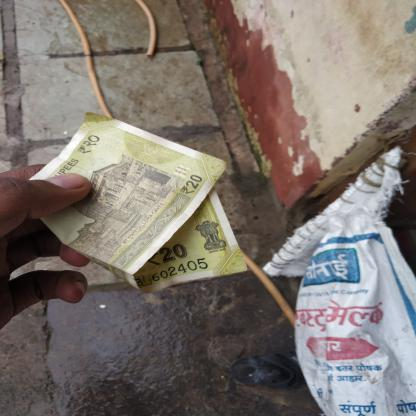New20Back: (21, 120, 200, 263)
